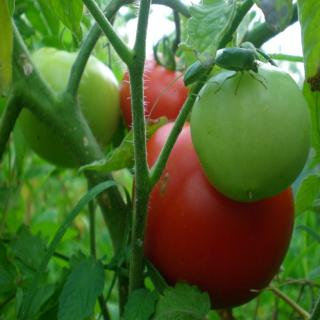tomato: (130, 120, 295, 310), (190, 58, 313, 201), (17, 44, 124, 168), (119, 51, 192, 145)
